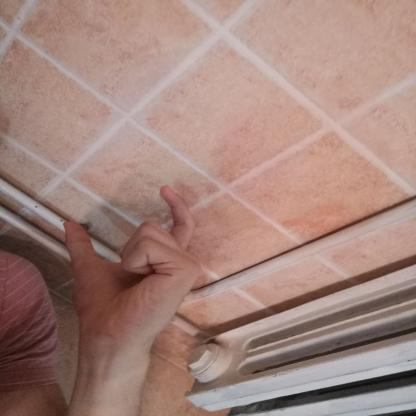NOON: (42, 174, 216, 352)
